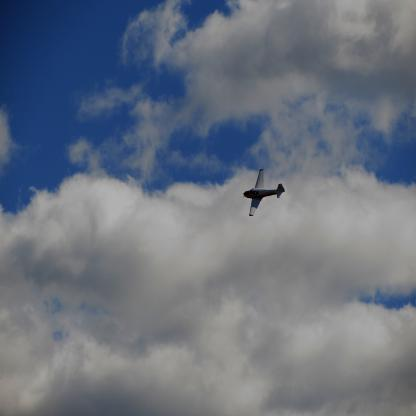aircraft: (243, 168, 285, 217)
